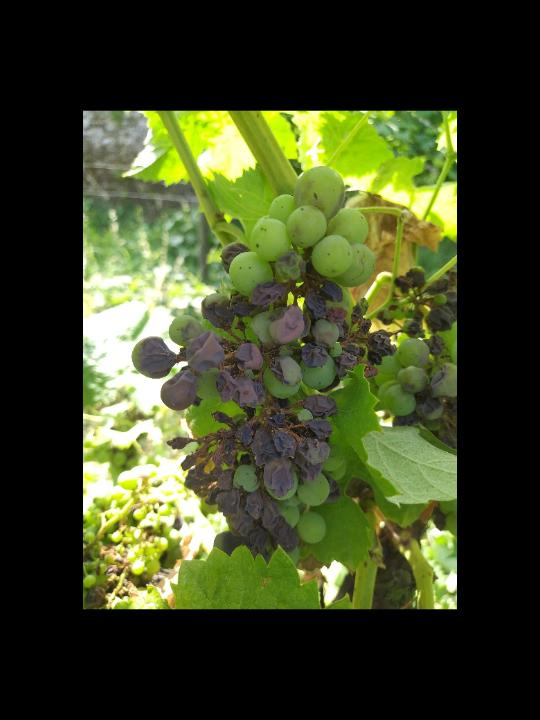grape: (130, 163, 400, 567)
